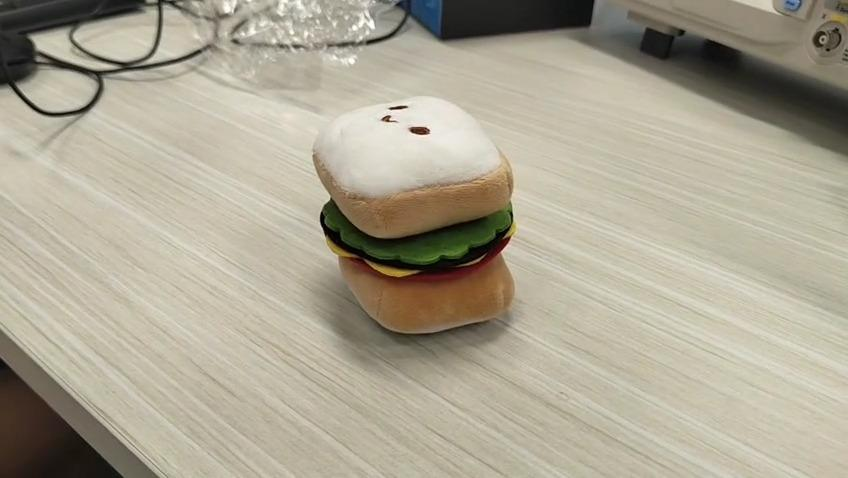objects: (312, 97, 519, 336)
